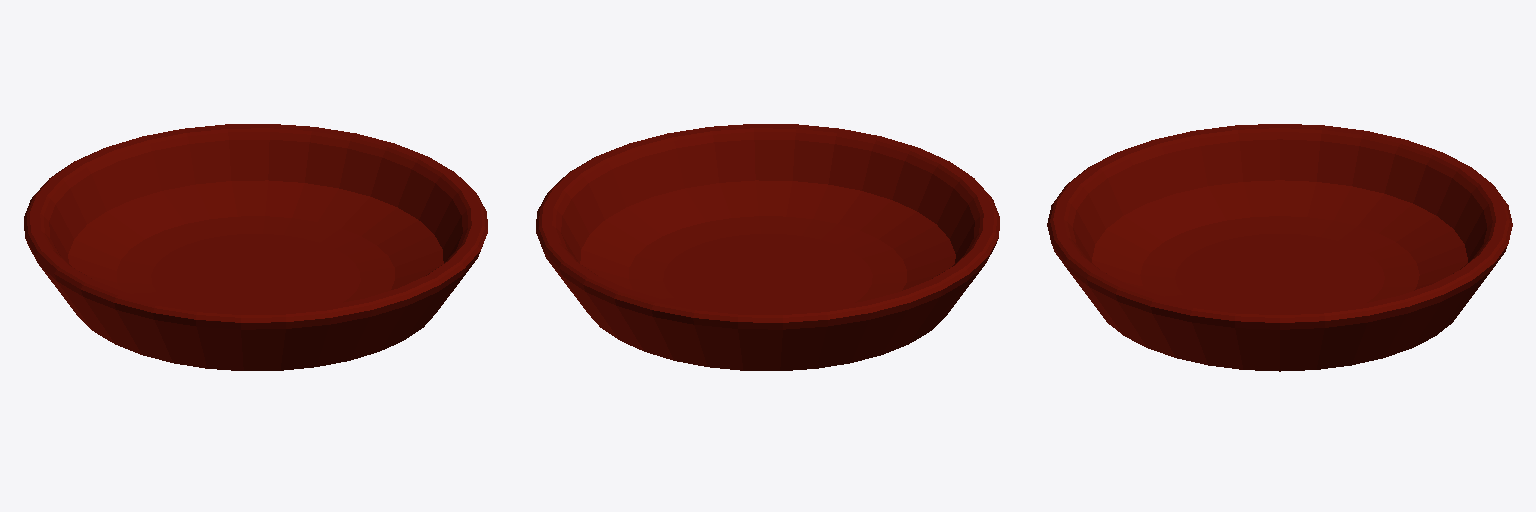
Rendered from bowl.obj.
3 renders of one model, left to right at view 1: azimuth 30°, elevation 25°; view 2: azimuth 150°, elevation 25°; view 3: azimuth 270°, elevation 25°, orthographic.
Parts seen in each view (by area): view 1: Cylinder-col; view 2: Cylinder-col; view 3: Cylinder-col.
Boxes of the visible parts, x1,y1,x2,y2 form: Cylinder-col: [24, 124, 487, 370]; Cylinder-col: [536, 124, 999, 370]; Cylinder-col: [1047, 124, 1512, 371].
Bounding box in the file's own units: 12.46 × 2.16 × 12.46.